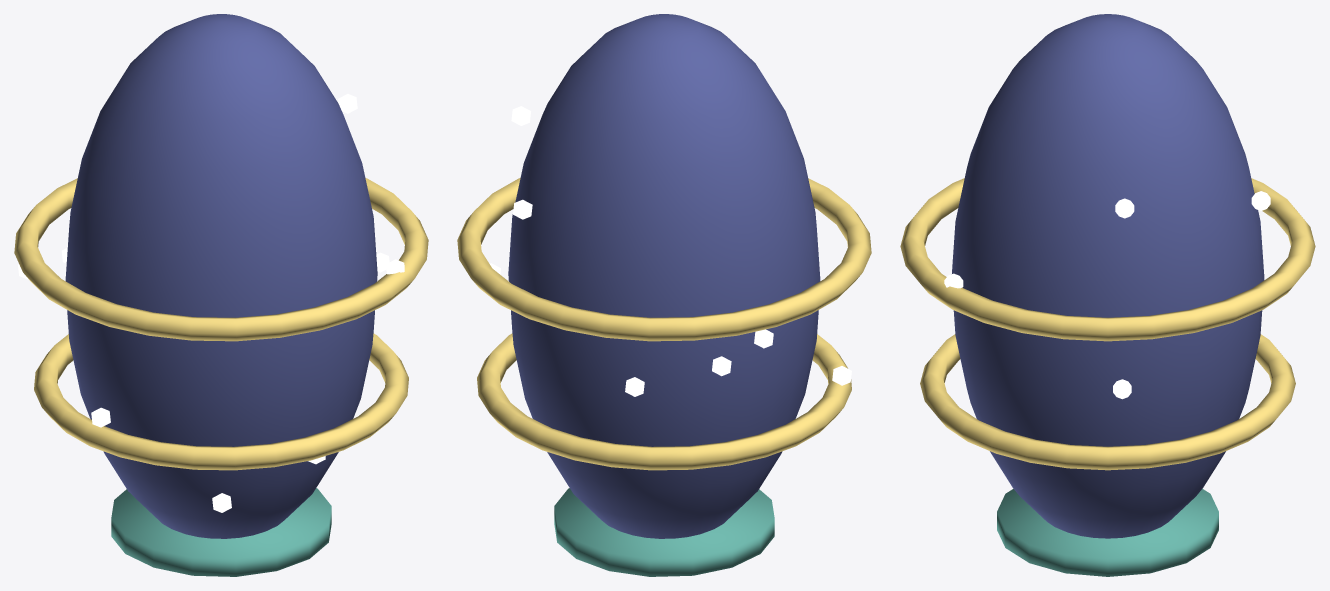
File: egg_deepsea_09.glb
3 renders of one model, left to right at view 1: azimuth 30°, elevation 25°; view 2: azimuth 150°, elevation 25°; view 3: azimuth 270°, elevation 25°, orthographic.
Parts seen in each view (by area): view 1: ball; view 2: ball; view 3: ball.
Boxes of the visible parts, <box> form: ball: <box>14,14,428,576</box>; ball: <box>457,14,871,576</box>; ball: <box>900,14,1315,576</box>.
Bounding box in the file's own units: 0.8225 × 1.12 × 0.8225.
